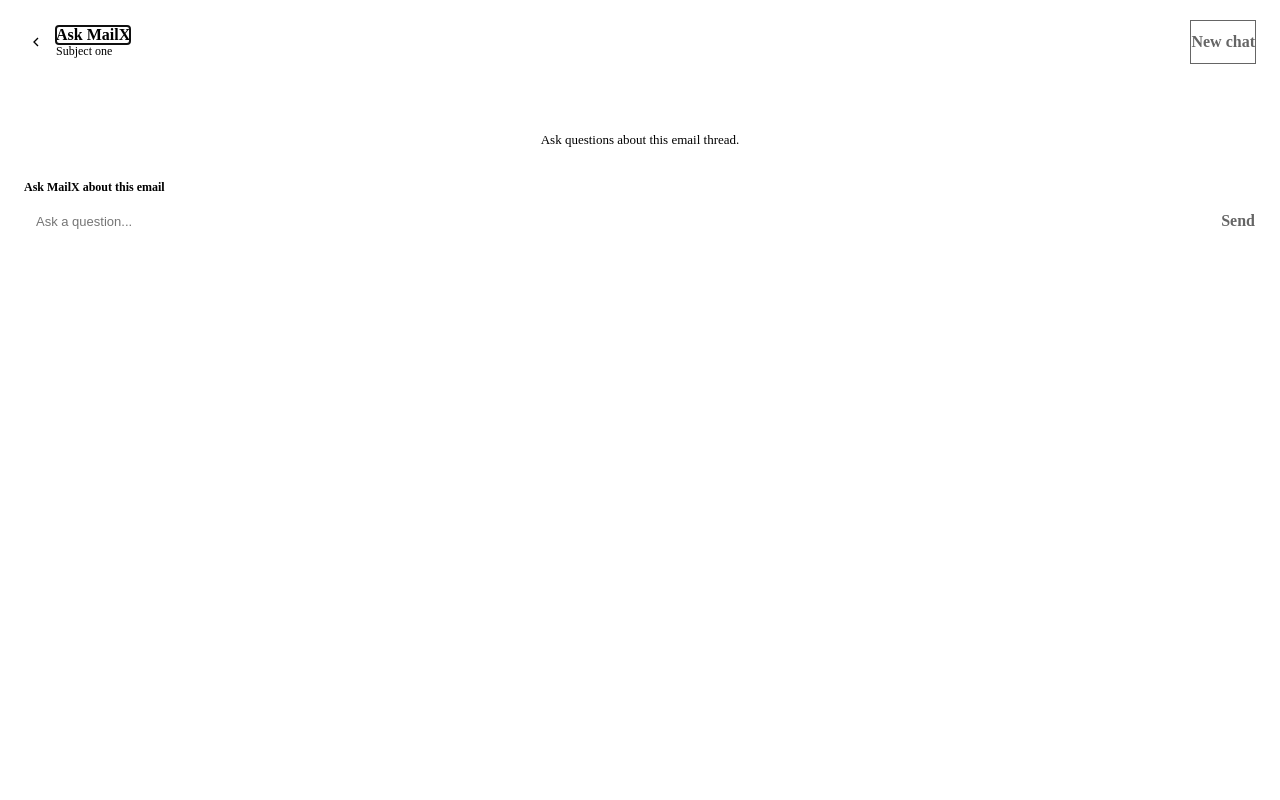
Test: Ask MailX conversations › confirms New chat and leaves history untouched when cancelled
This screenshot has width=1280, height=800.
Type "Keep this" into the field labelled "Ask MailX about this email".
click(618, 221); type("Keep this")  # box [24,199,1212,243]
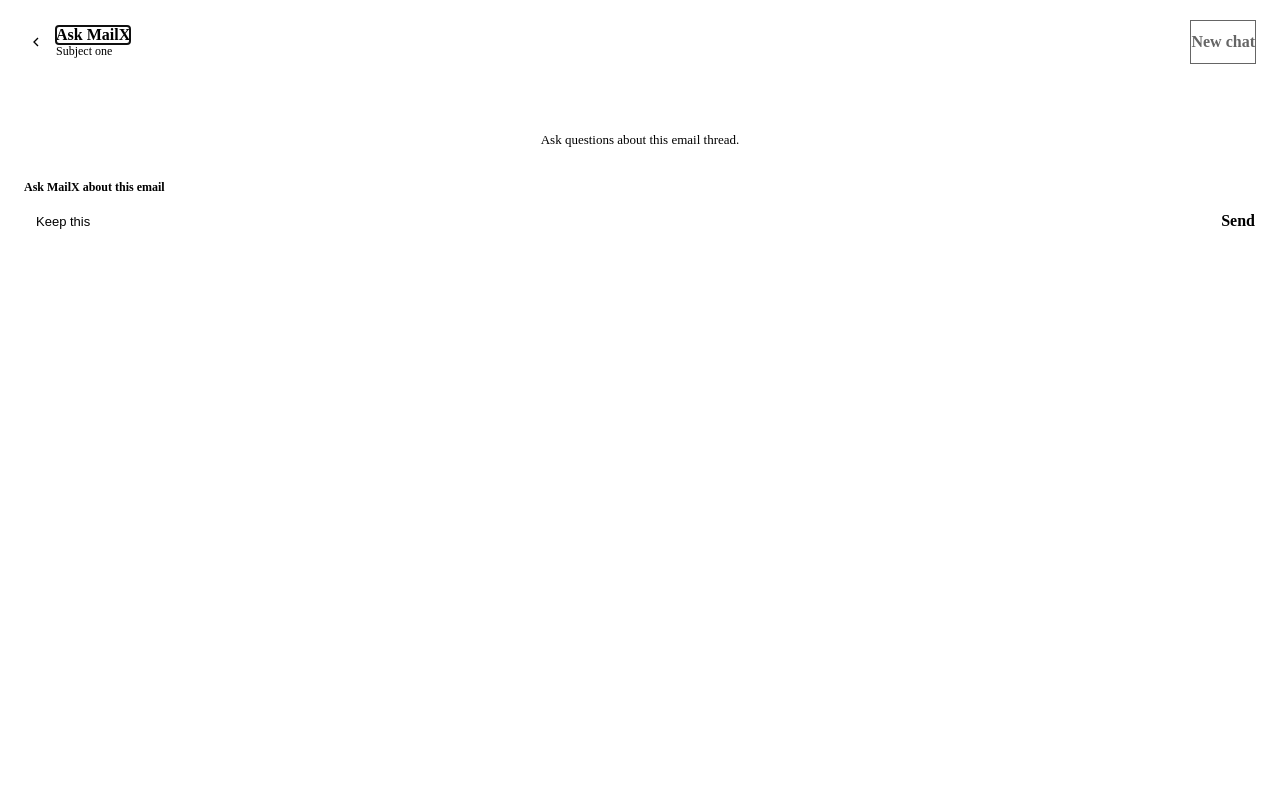
Click the button "Send".
click(1238, 221)  # box [1220,199,1256,243]
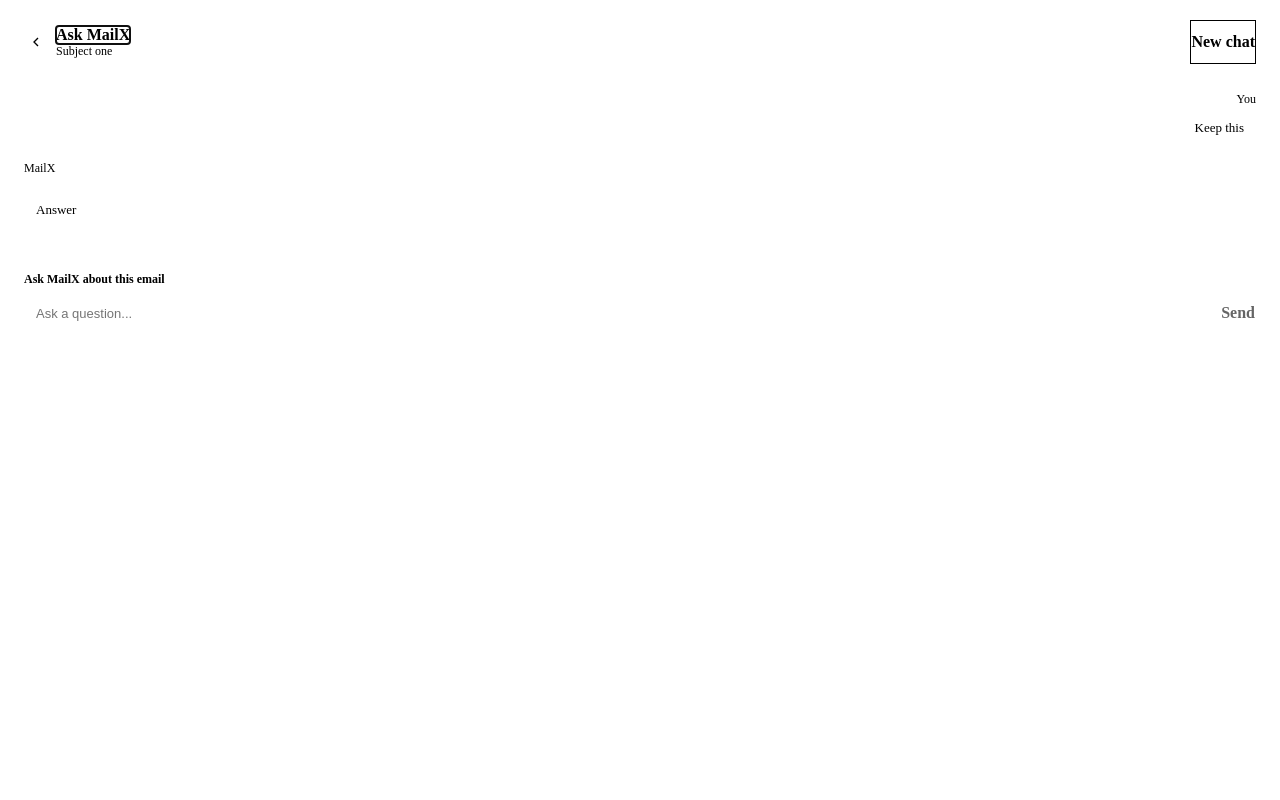
Click the button "New chat".
click(1223, 42)  # box [1190,20,1256,64]
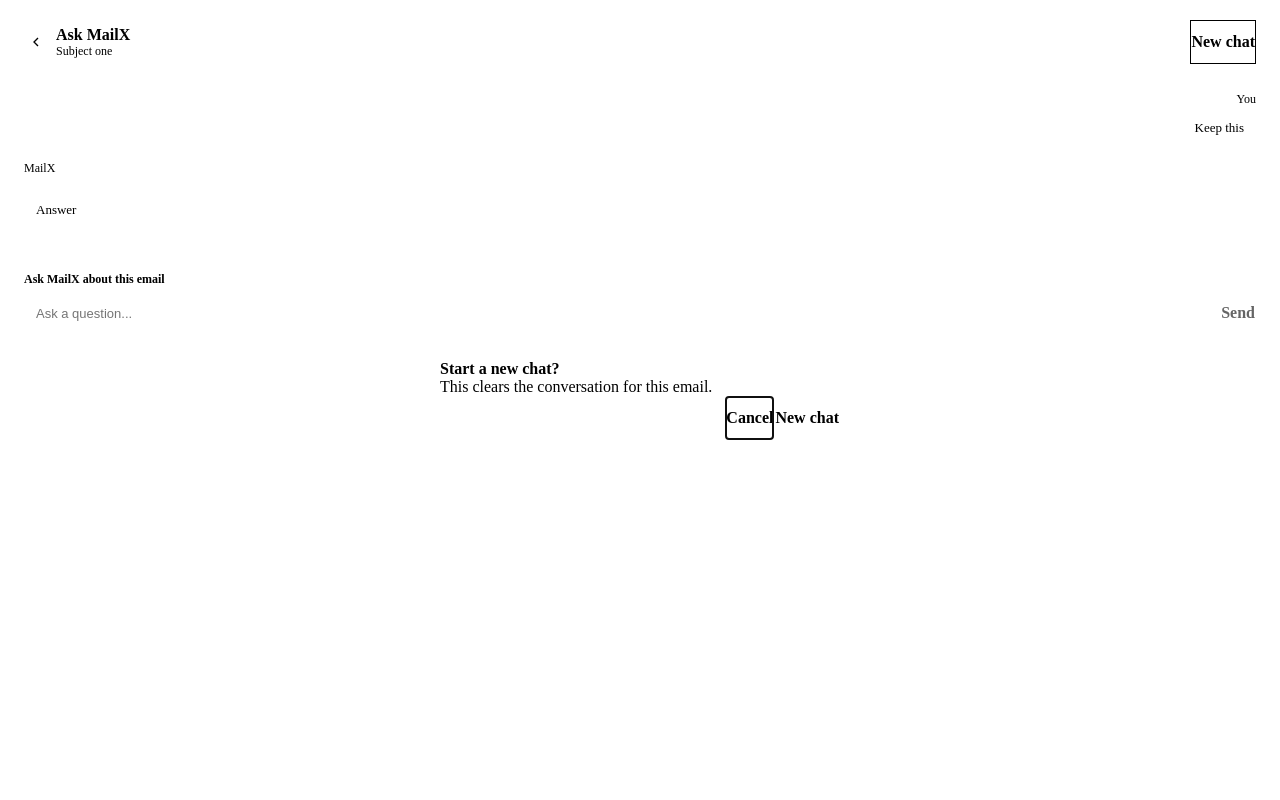
Click the button "Cancel".
click(750, 418)  # box [725,396,774,440]
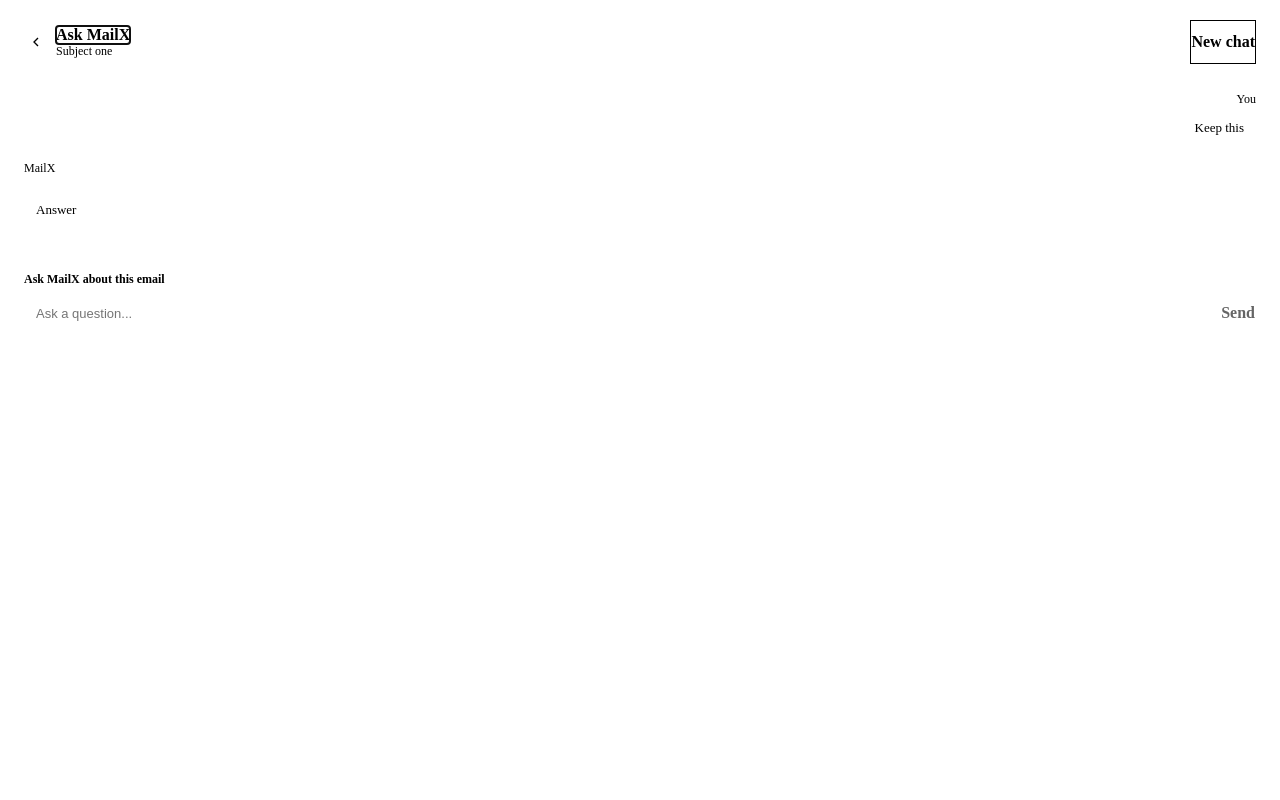
Result: the text "Keep this" is shown at [1194,120,1244,135]
Click the button "New chat".
click(1223, 42)  # box [1190,20,1256,64]
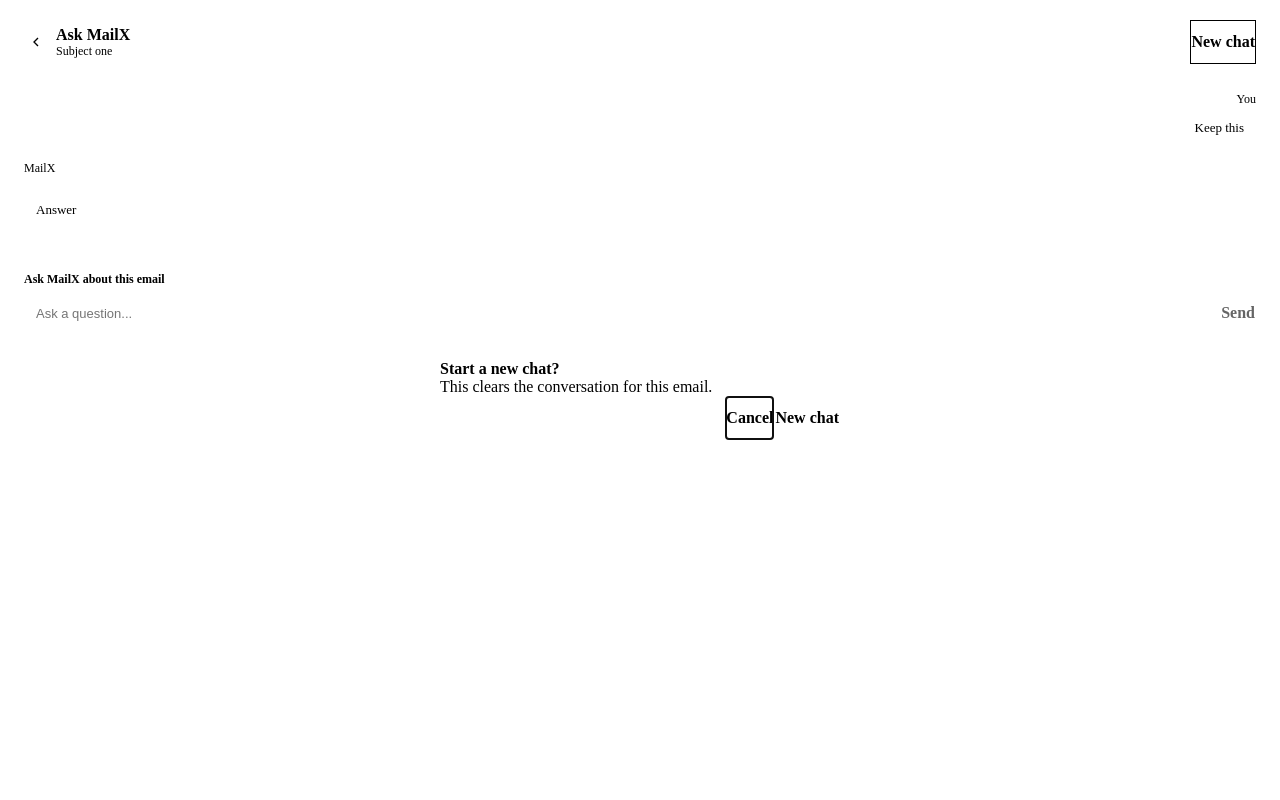
Click the button "New chat".
click(807, 418)  # box [774,396,840,440]
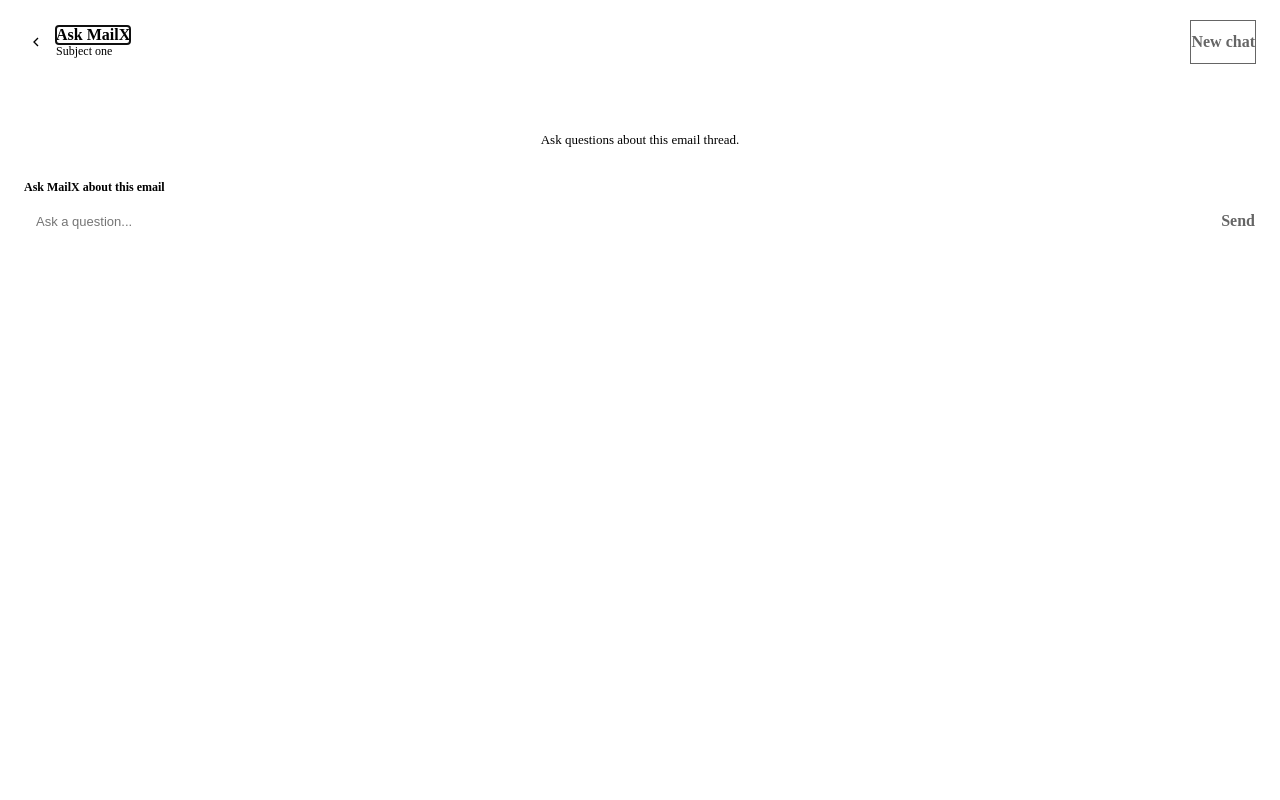
Result: the text "Keep this" is gone
